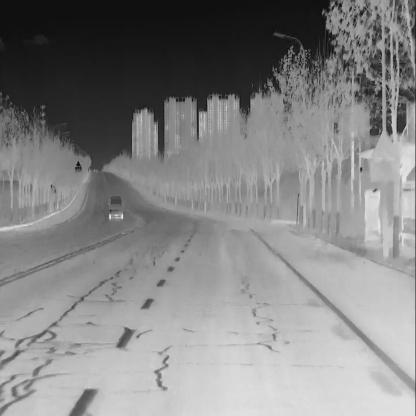car: (108, 194, 124, 220)
